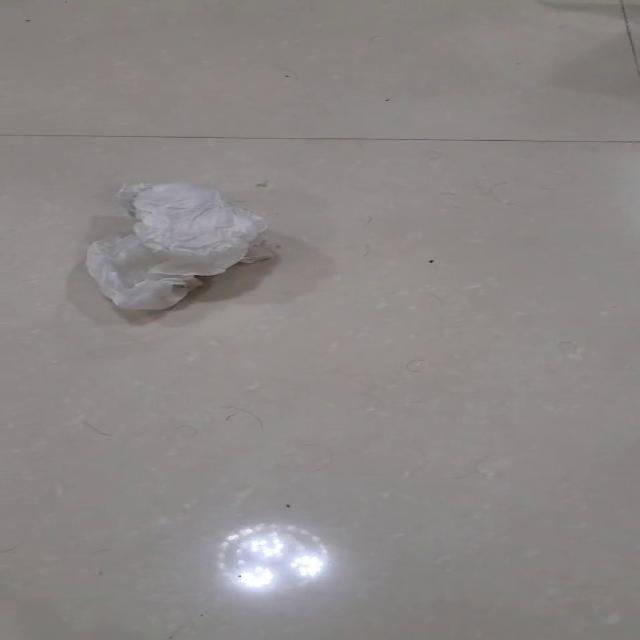plastic: (83, 180, 272, 310)
